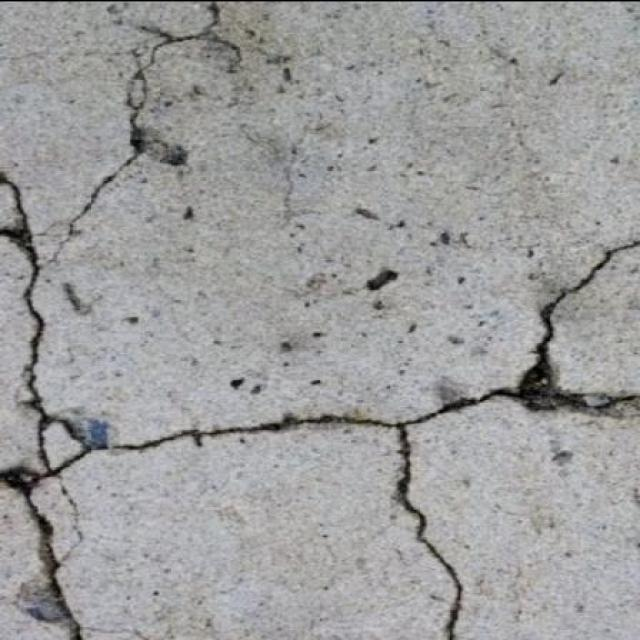Crack: (0, 170, 639, 640), (49, 0, 219, 260)
